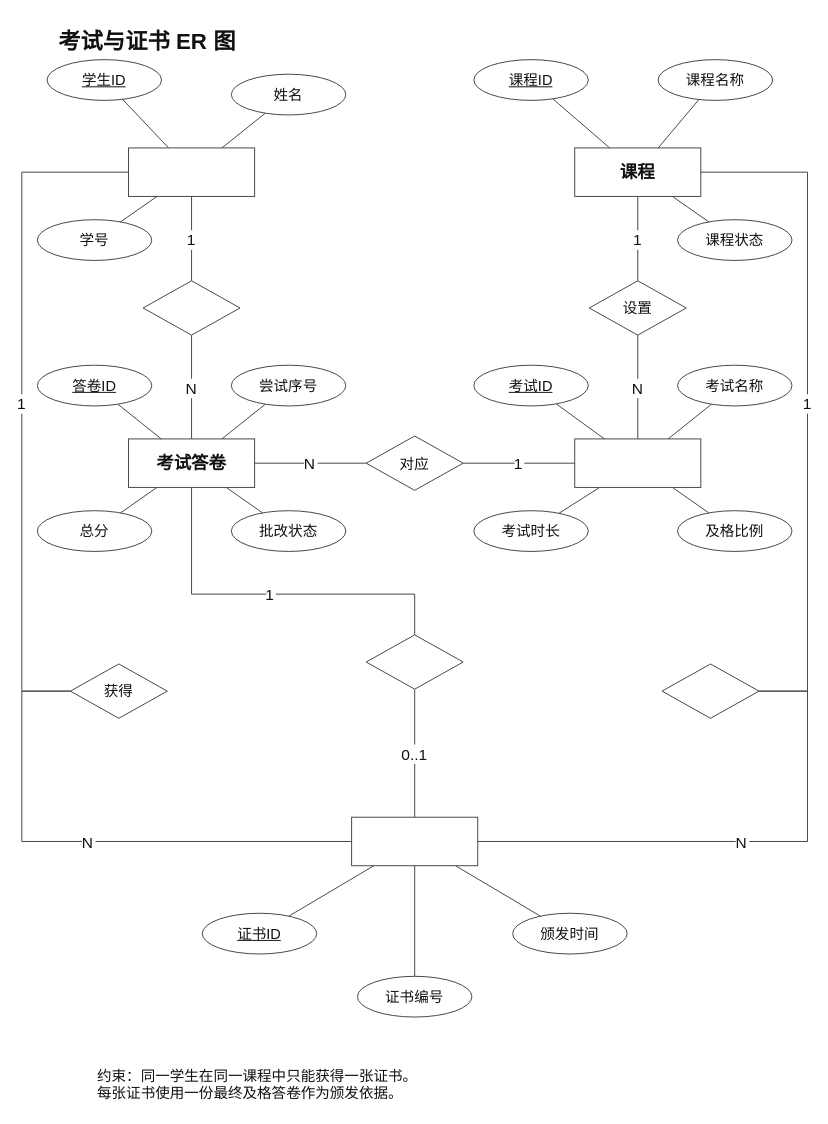
Image size: 828x1124. Some labels were removed from this diagram. Here are the shapes that lost their labels. From the top down, the centre of each, then its label:
At point (191, 171): "学生".
At point (191, 307): "作答".
At point (637, 462): "考试".
At point (414, 661): "颁发依据".
At point (710, 690): "颁发".
At point (414, 841): "证书".
